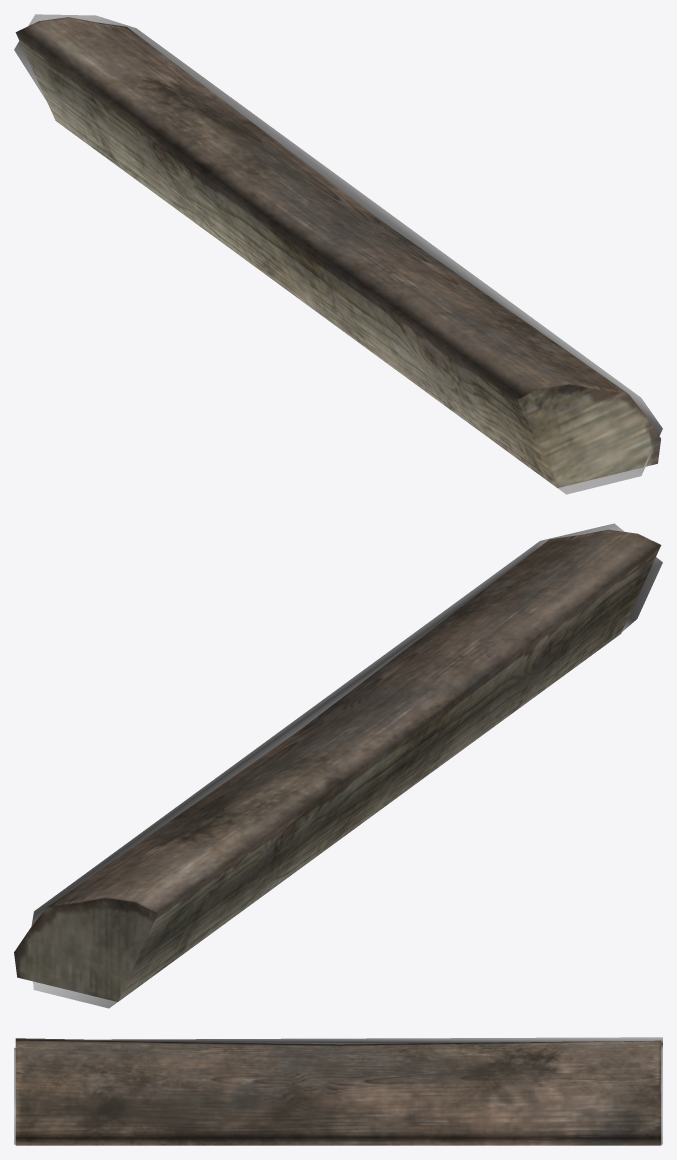
Rendered from SM_Firewood.gltf.
The picture shows the model from 3 angles, top to bottom: view 1: azimuth 30°, elevation 25°; view 2: azimuth 150°, elevation 25°; view 3: azimuth 270°, elevation 25°; orthographic projection. The views are drawn at different scales.
Parts seen in each view (by area): view 1: SM_Firewood_LOD0, SM_Firewood_ConvexHulls; view 2: SM_Firewood_LOD0, SM_Firewood_ConvexHulls; view 3: SM_Firewood_LOD0, SM_Firewood_ConvexHulls.
Part boxes in pixels (left/top/right/bottom): SM_Firewood_LOD0: left=15, top=17, right=660, bottom=488; SM_Firewood_ConvexHulls: left=14, top=14, right=662, bottom=494; SM_Firewood_LOD0: left=14, top=529, right=661, bottom=1001; SM_Firewood_ConvexHulls: left=31, top=523, right=662, bottom=1008; SM_Firewood_LOD0: left=15, top=1038, right=661, bottom=1145; SM_Firewood_ConvexHulls: left=14, top=1037, right=662, bottom=1144.
Size of what is drawn, in the model's own units: 0.1311 by 0.1018 by 0.7937.
